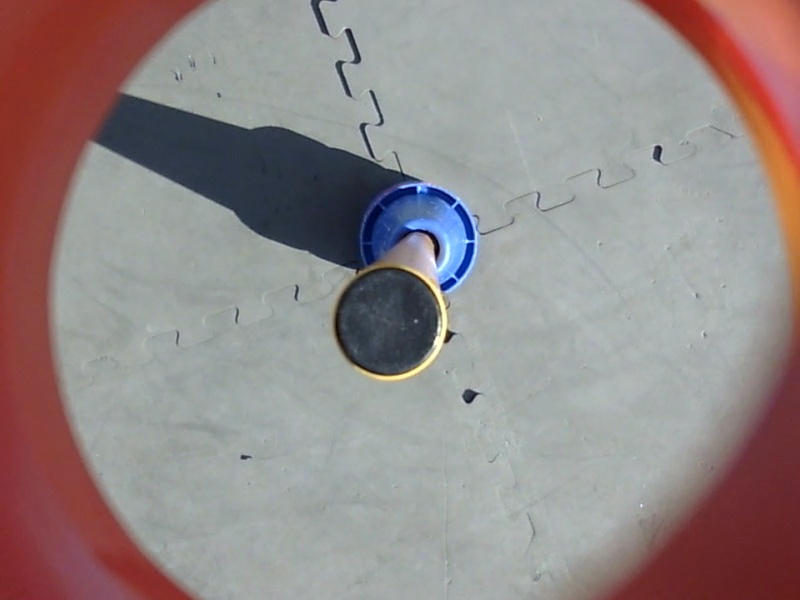tip: (327, 259, 455, 386)
